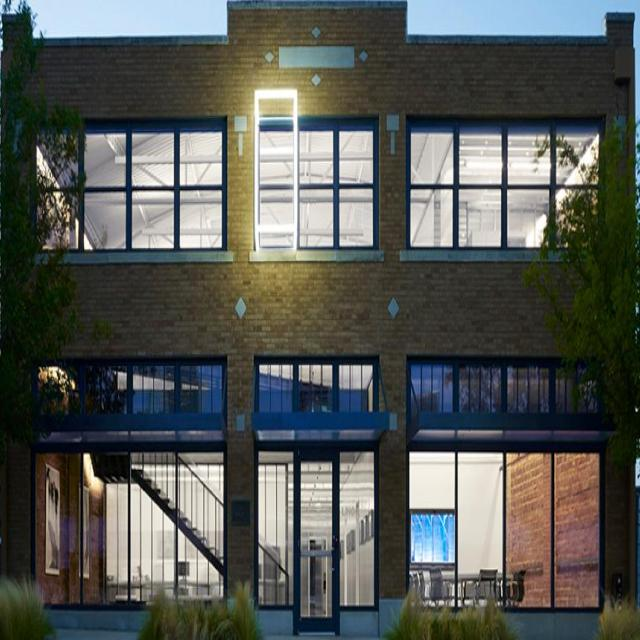door: (292, 449, 341, 639)
window: (32, 446, 225, 610), (408, 450, 601, 610), (407, 121, 600, 248), (257, 448, 377, 639), (39, 129, 225, 246), (258, 121, 381, 248), (411, 363, 597, 415), (37, 366, 224, 415), (255, 365, 373, 410)
